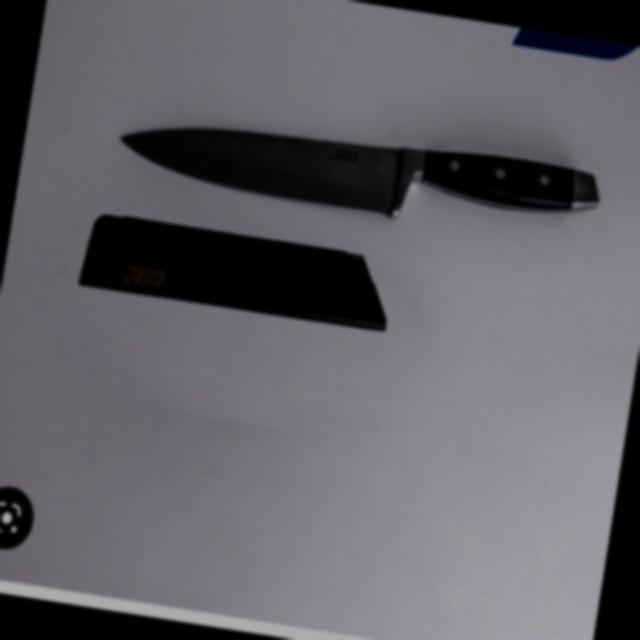knife: (57, 75, 630, 382)
